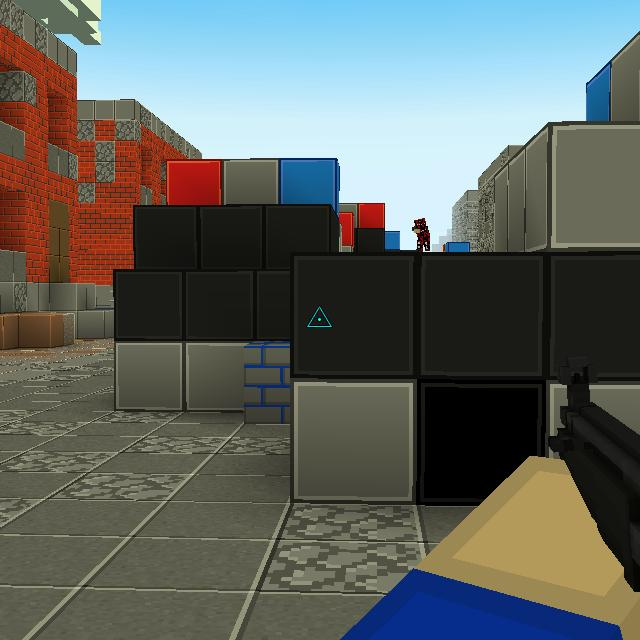enemy: (411, 217, 431, 252)
